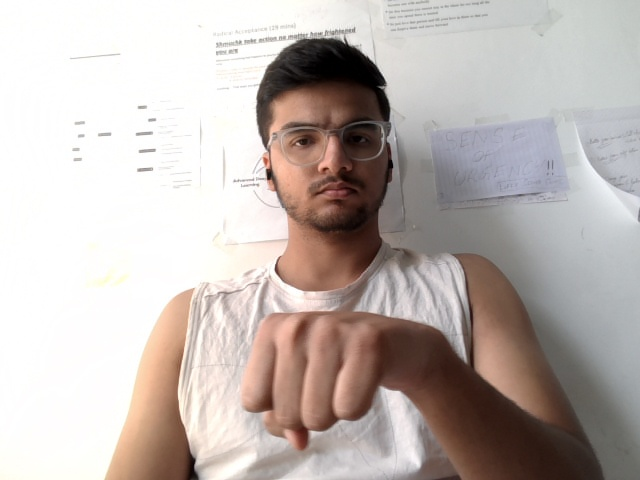yes: (239, 282, 464, 451)
